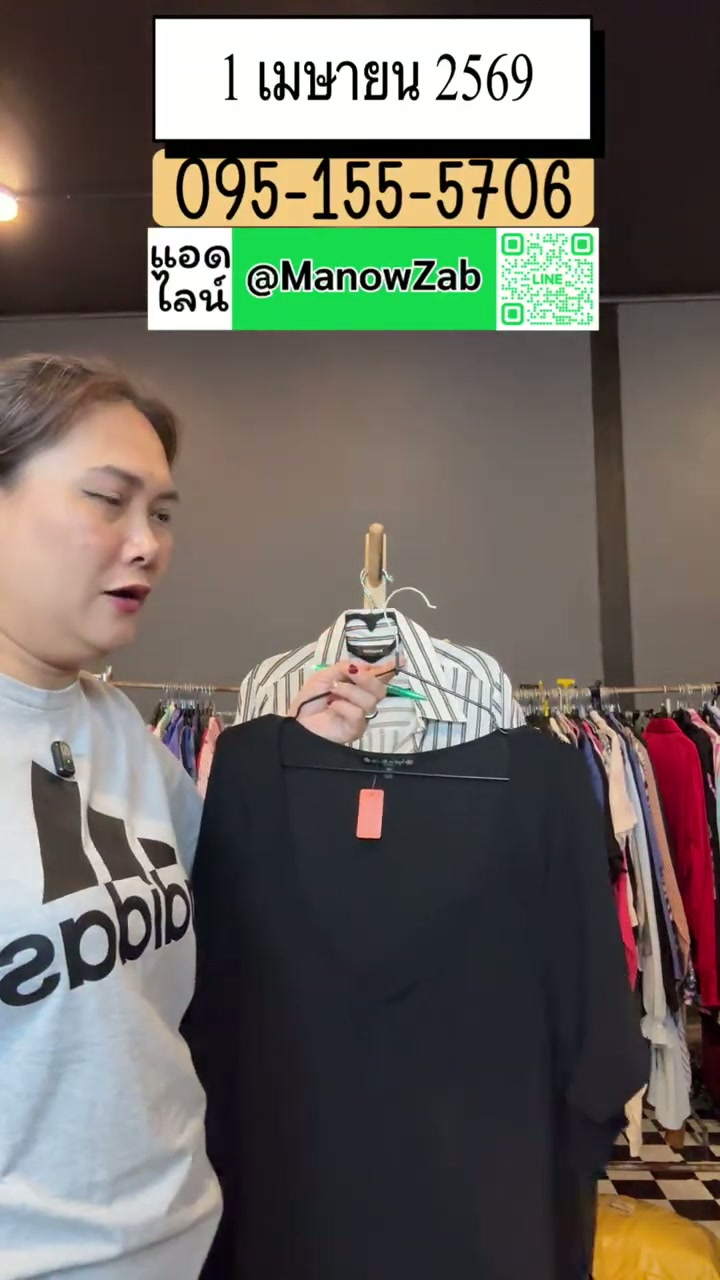display_shirt: (186, 716, 648, 1279)
